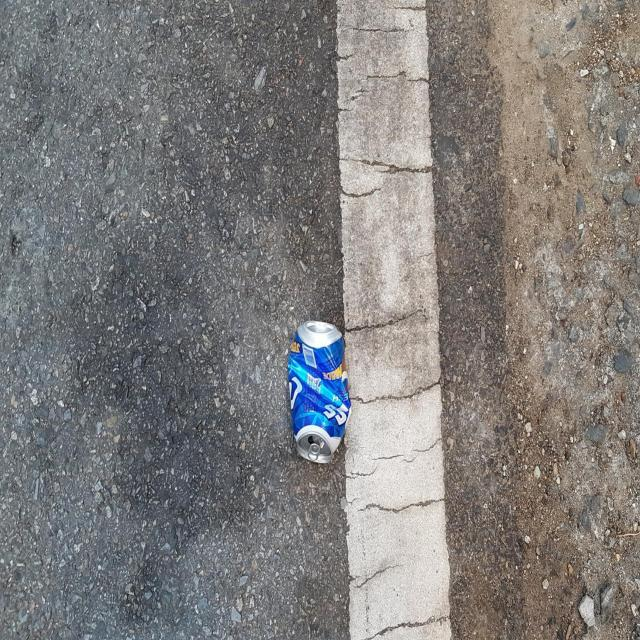can: (288, 320, 351, 463)
